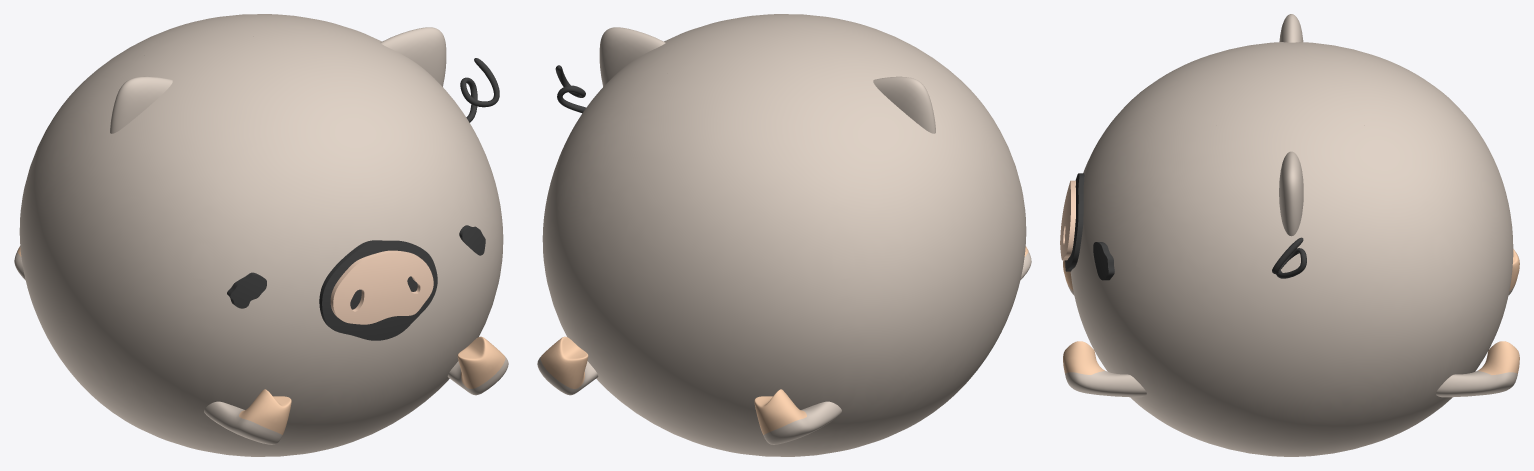
The picture shows the model from 3 angles, left to right: view 1: azimuth 30°, elevation 25°; view 2: azimuth 150°, elevation 25°; view 3: azimuth 270°, elevation 25°; orthographic projection. The views are drawn at different scales.
Parts seen in each view (by area): view 1: 039_koroton; view 2: 039_koroton; view 3: 039_koroton.
Part boxes in pixels (x1,y1,x2,y2): 039_koroton: (14,14,508,456); 039_koroton: (537,14,1031,456); 039_koroton: (1060,14,1519,456).
Size of the model in its own units: 0.1979 by 0.1679 by 0.1931.
